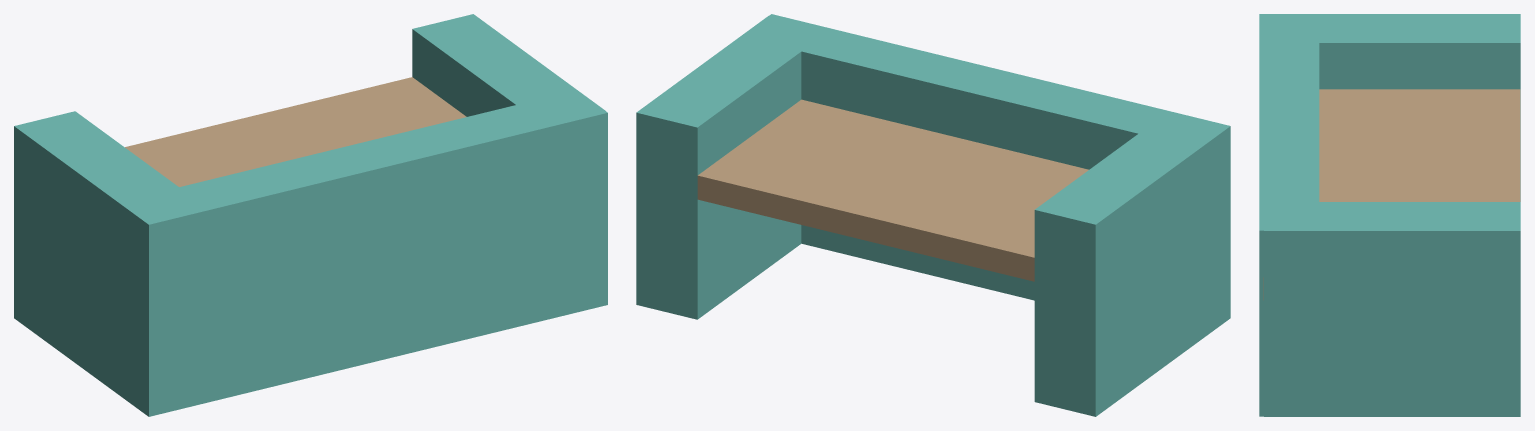
File: voxel-city-districts-reception-desk-57c2d4fe__24889.glb
The picture shows the model from 3 angles, left to right: view 1: azimuth 30°, elevation 25°; view 2: azimuth 150°, elevation 25°; view 3: azimuth 270°, elevation 25°; orthographic projection. The views are drawn at different scales.
Parts seen in each view (by area): view 1: reception-desk-accent, reception-desk-wood; view 2: reception-desk-accent, reception-desk-wood; view 3: reception-desk-accent, reception-desk-wood.
Boxes of the visible parts, x1,y1,x2,y2 form: reception-desk-accent: (14,14,607,416); reception-desk-wood: (125,77,466,186); reception-desk-accent: (636,14,1230,416); reception-desk-wood: (697,99,1088,281); reception-desk-accent: (1259,14,1520,416); reception-desk-wood: (1263,89,1520,300).
Size of the model in its own units: 3 by 1.2 by 1.53.
